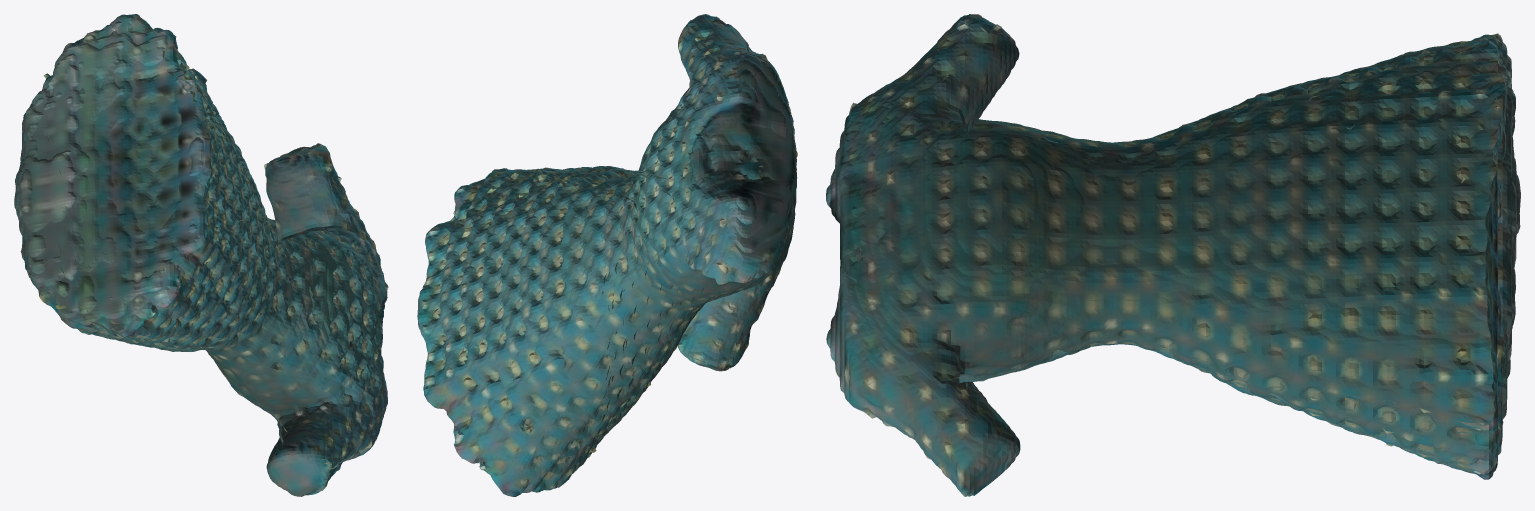
Rendered from triposr_raw__T3_fitflare_shortsleeve.glb.
The picture shows the model from 3 angles, left to right: view 1: azimuth 30°, elevation 25°; view 2: azimuth 150°, elevation 25°; view 3: azimuth 270°, elevation 25°; orthographic projection. The views are drawn at different scales.
Parts seen in each view (by area): view 1: geometry_0; view 2: geometry_0; view 3: geometry_0.
Boxes of the visible parts, x1,y1,x2,y2 form: geometry_0: [14, 14, 388, 496]; geometry_0: [417, 14, 797, 496]; geometry_0: [826, 14, 1520, 496].
Bounding box in the file's own units: 0.4415 × 0.7647 × 1.02.
